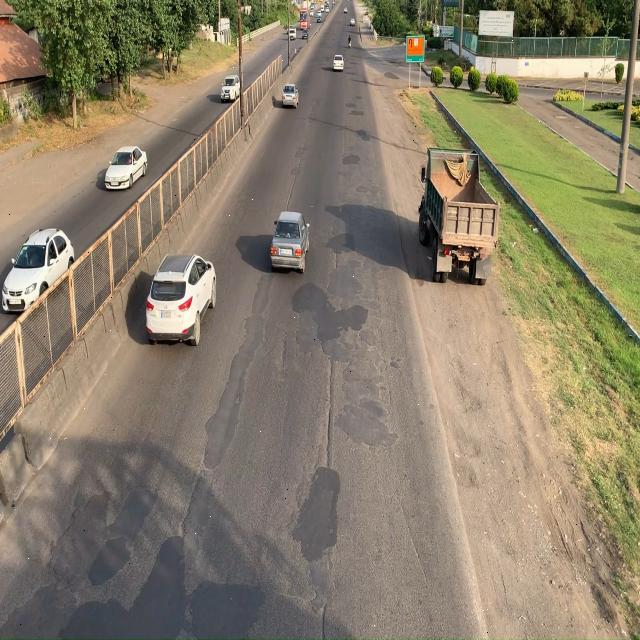Truck: (411, 150, 494, 290)
cars: (2, 230, 76, 311), (146, 256, 216, 340), (270, 214, 310, 268), (105, 146, 147, 189)
